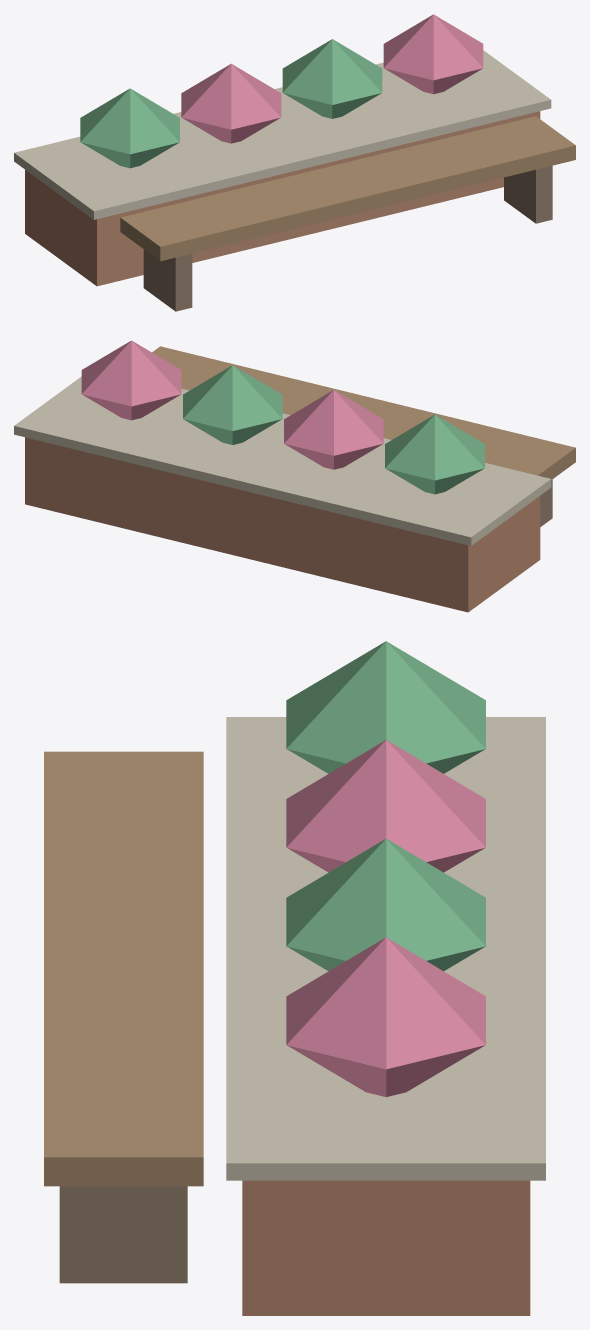
File: bench_planter.glb
3 views of the same model, one above another, from view 1: azimuth 30°, elevation 25°; view 2: azimuth 150°, elevation 25°; view 3: azimuth 270°, elevation 25° (orthographic). The views are drawn at different scales.
Bounding box in the file's own units: 3.3 × 1.07 × 1.57.
